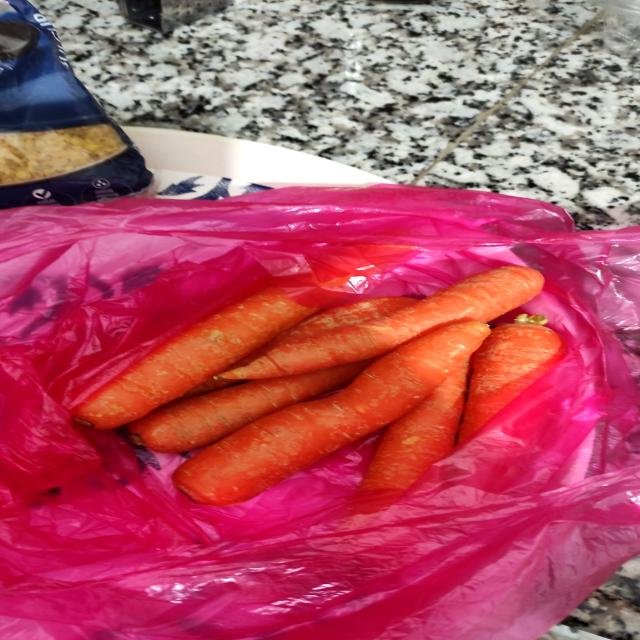carrot: (168, 314, 518, 512)
